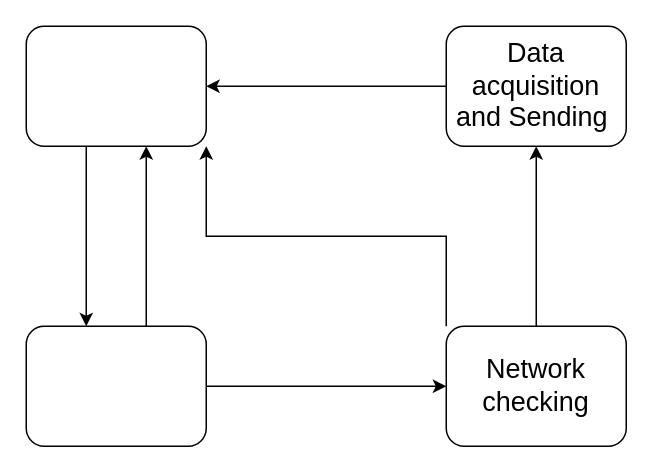
The diagram is 653 pixels wide and 473 high, and some of its shapes have lost their labels. Each missing label, with the box of its shape:
IDLE: (25, 25, 206, 146)
Power Checking: (25, 325, 206, 446)
